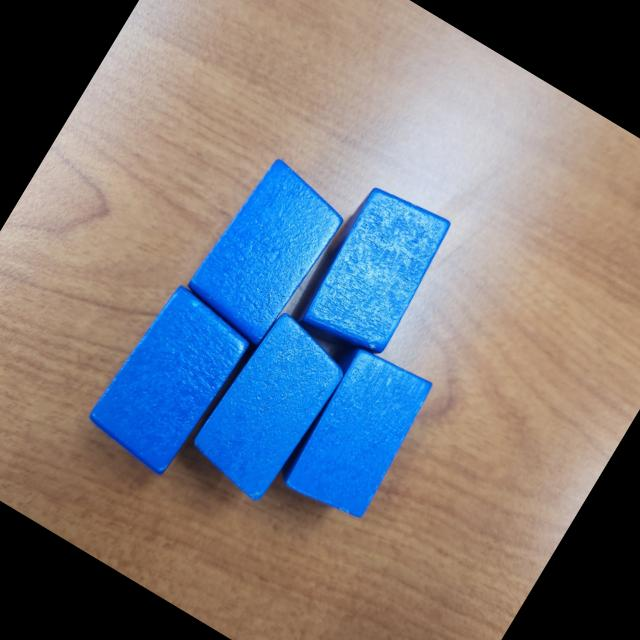blue: (80, 280, 262, 486), (178, 304, 358, 510), (176, 152, 354, 356), (286, 175, 459, 372), (272, 339, 440, 531)
